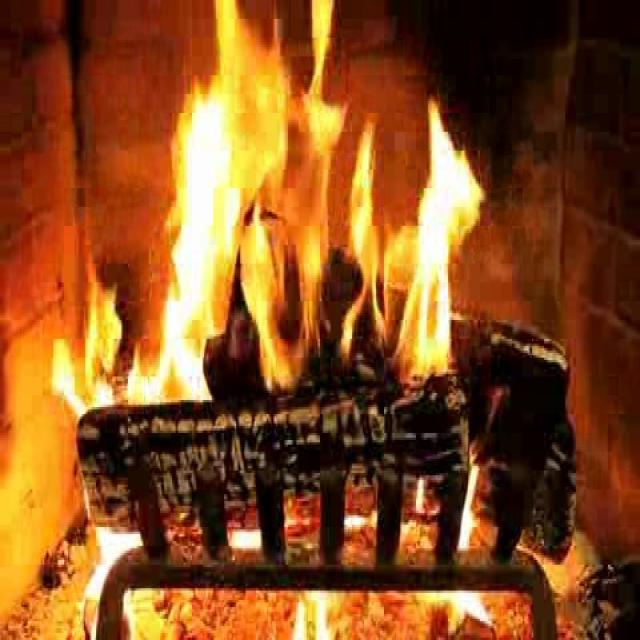fire: (144, 8, 480, 410)
